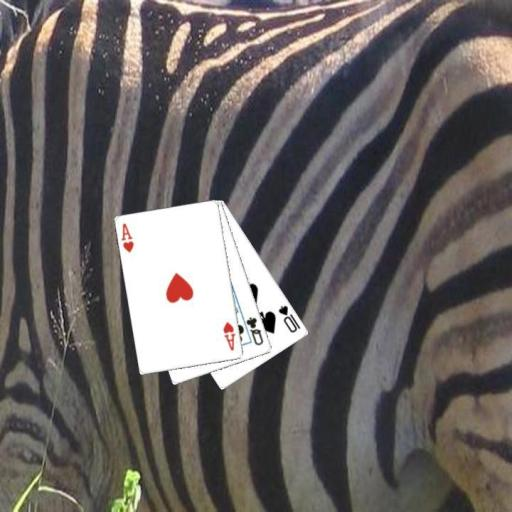10S: (275, 302, 302, 334)
AH: (118, 220, 135, 254), (220, 319, 237, 352)
QC: (243, 314, 265, 347)
